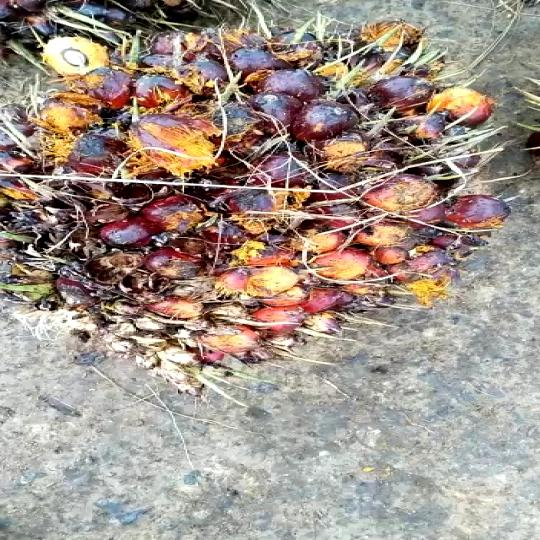masak: (0, 9, 540, 377)
